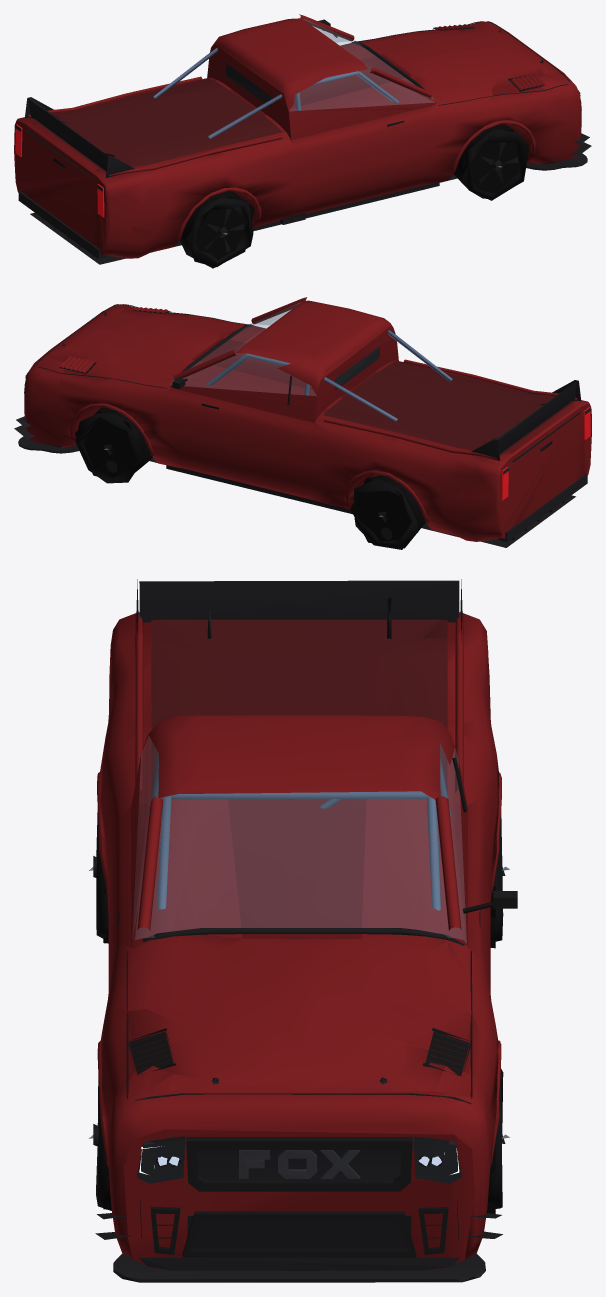
The model's file is truck_race_lod2.glb.
3 renders of one model, top to bottom at view 1: azimuth 30°, elevation 25°; view 2: azimuth 150°, elevation 25°; view 3: azimuth 270°, elevation 25°, orthographic. The views are drawn at different scales.
Parts seen in each view (by area): view 1: Body, Tire_RR, Tire_FR; view 2: Body, Tire_FL, Tire_RL; view 3: Body, Tire_FL, Tire_FR, Tire_RR, Tire_RL.
Part boxes in pixels (bbox=[...]): Body: bbox=[14, 14, 591, 264]; Tire_RR: bbox=[180, 191, 254, 268]; Tire_FR: bbox=[453, 124, 528, 200]; Body: bbox=[14, 297, 591, 547]; Tire_FL: bbox=[74, 407, 152, 483]; Tire_RL: bbox=[350, 475, 425, 549]; Body: bbox=[95, 579, 517, 1282]; Tire_FL: bbox=[487, 1069, 509, 1213]; Tire_FR: bbox=[89, 1078, 111, 1210]; Tire_RR: bbox=[89, 809, 108, 943]; Tire_RL: bbox=[490, 811, 509, 948].
Bounding box in the file's own units: 5.64 × 1.7 × 2.14.
